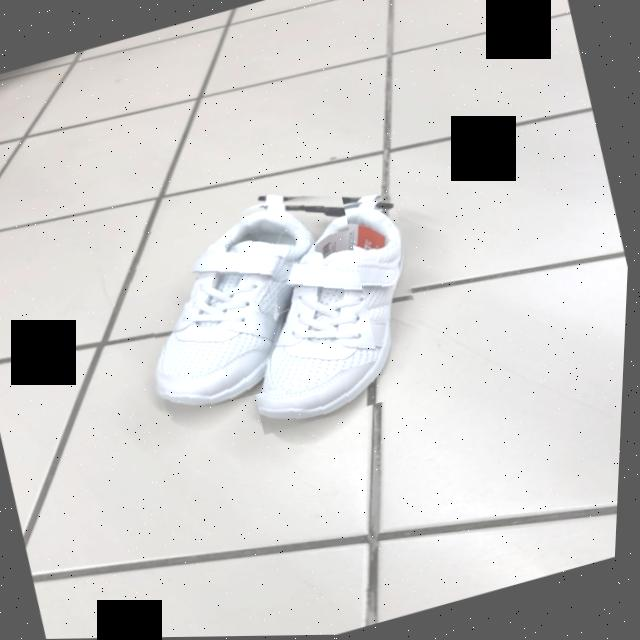shoe: (158, 202, 347, 408), (257, 202, 407, 425)
